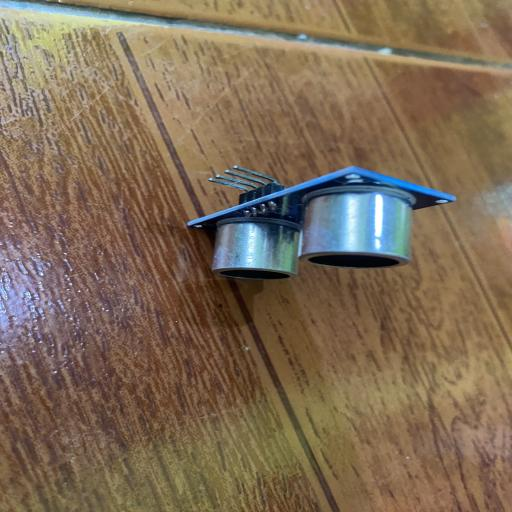Ultrasonic Sensor: (183, 163, 457, 282)
